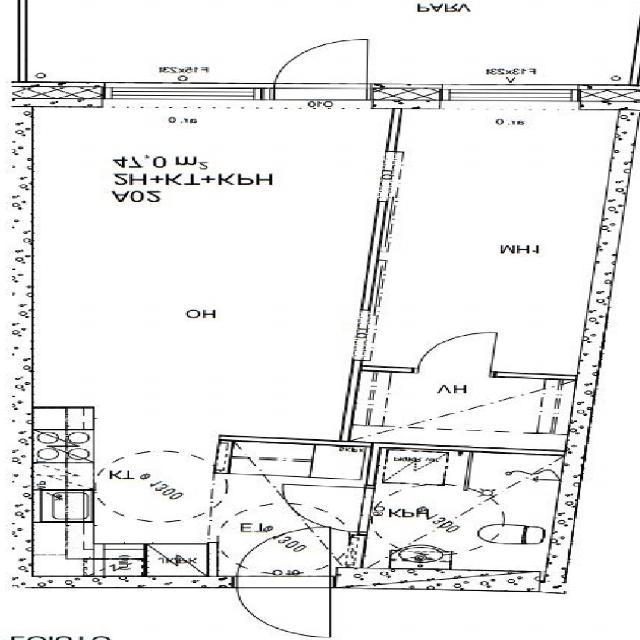door: (274, 34, 367, 100), (238, 576, 330, 637), (238, 526, 330, 587), (276, 484, 375, 532), (418, 328, 497, 376)
